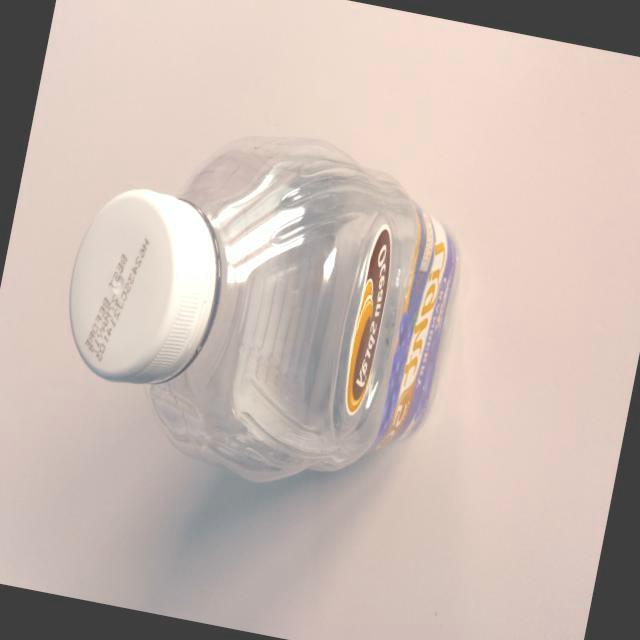plastic: (17, 70, 504, 560)
